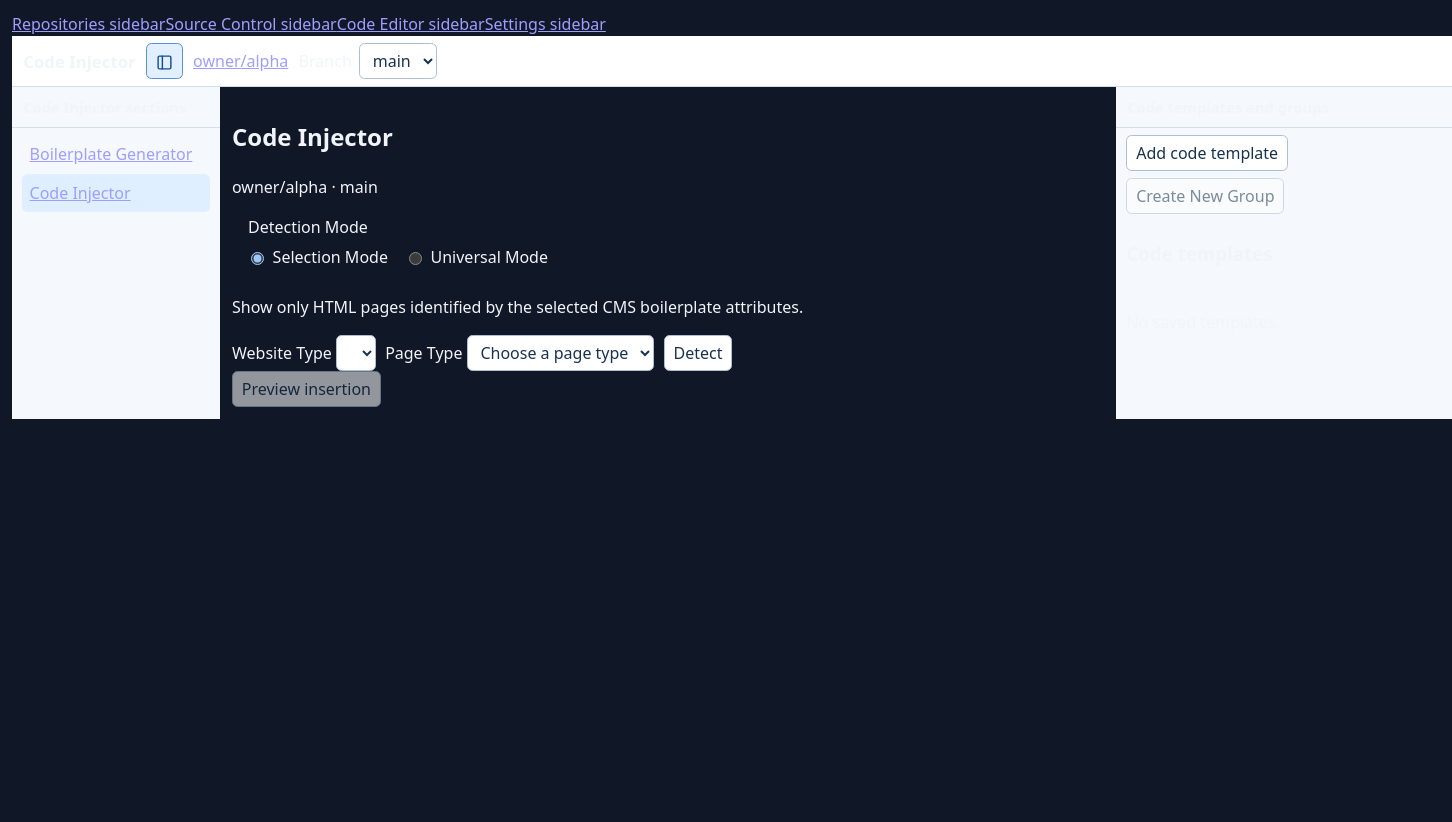
Test: creates reusable named templates and groups in the catalog without editing source
The width and height of the screenshot is (1452, 822).
Click the button "Add code template": (1207, 153) [1126,135,1288,171]
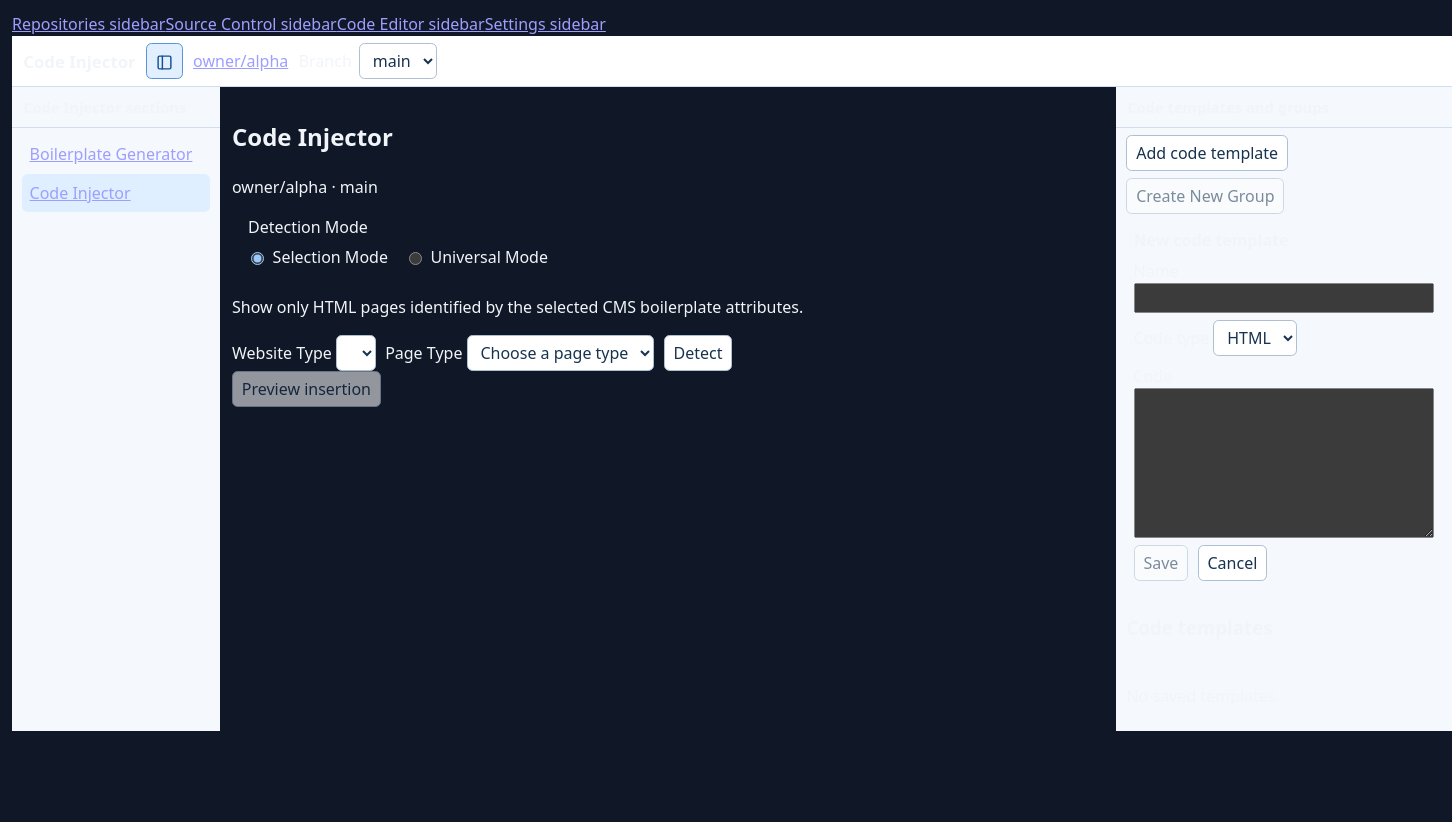
In the field labelled "Name": (1284, 298) [1134,283,1434,313], type "Site title"
In the text box labelled "Code": (1284, 463) [1134,388,1434,538], type "<title>Example</title>"
Click the button "Save": (1161, 563) [1134,545,1188,581]
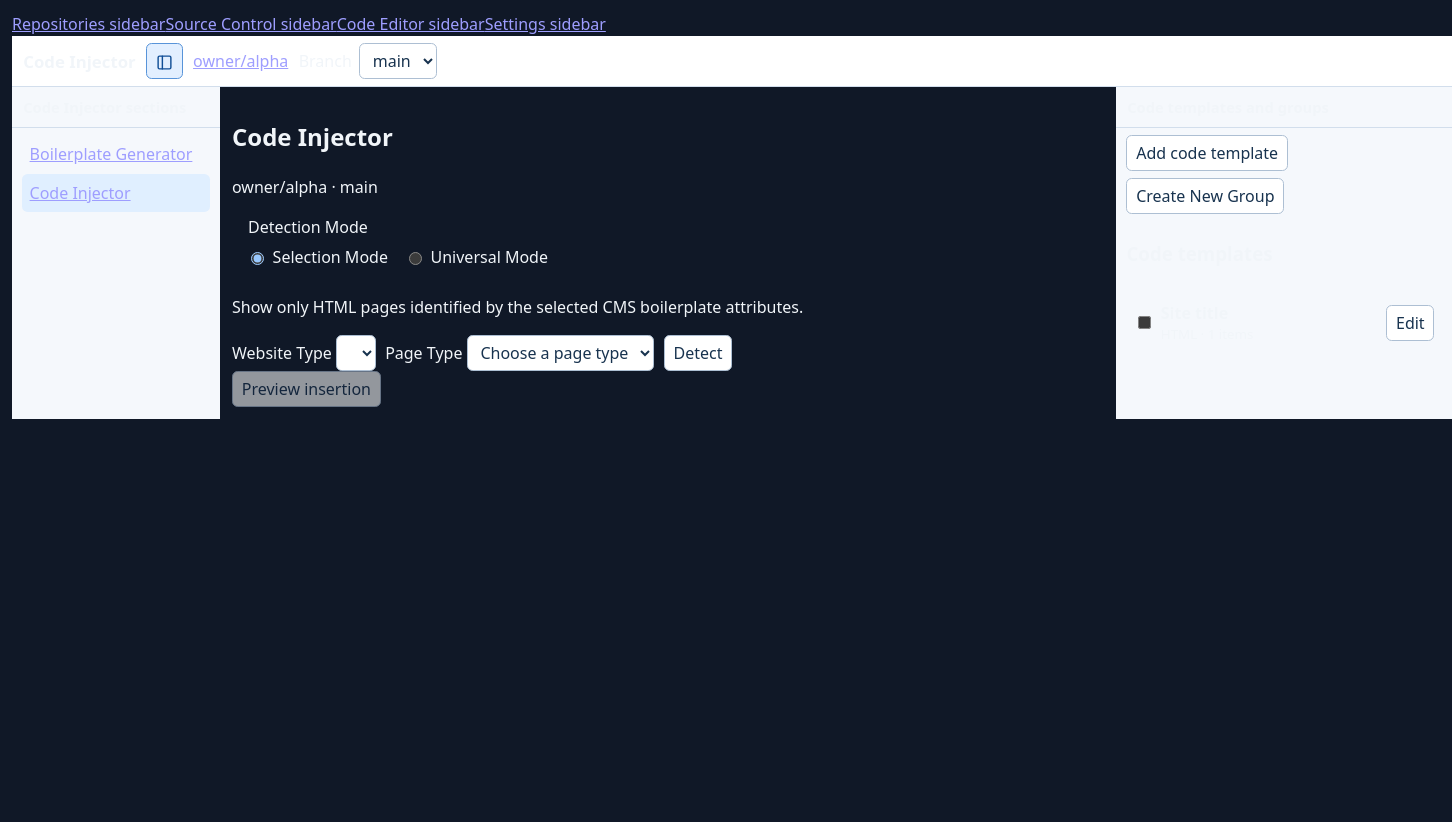
Click the checkbox named "Select template Site title": (1144, 323) [1138,316,1151,329]
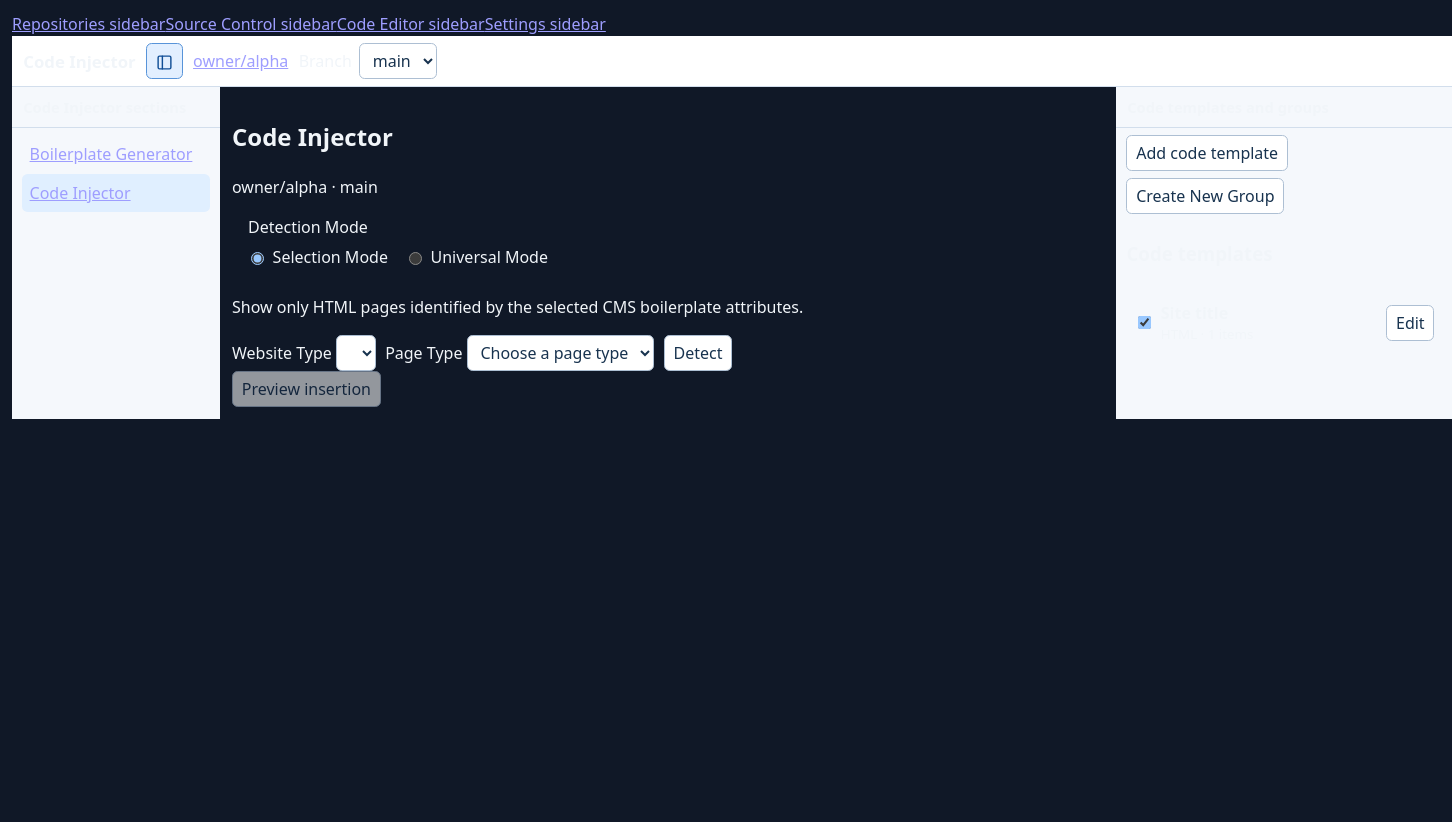
Click the button "Create New Group": (1205, 196) [1126,178,1284,214]
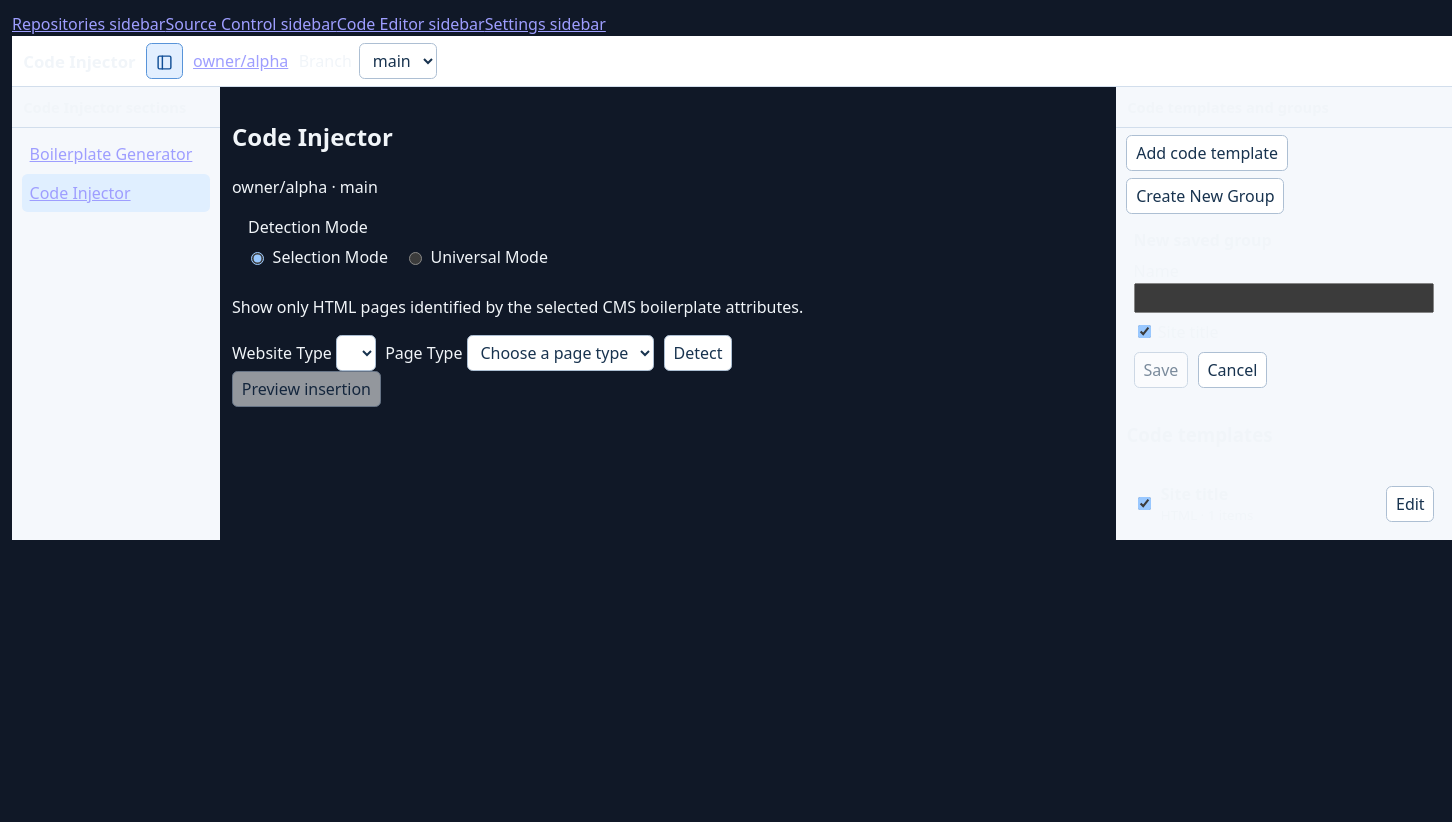
In the field labelled "Name": (1284, 298) [1134,283,1434,313], type "Metadata"
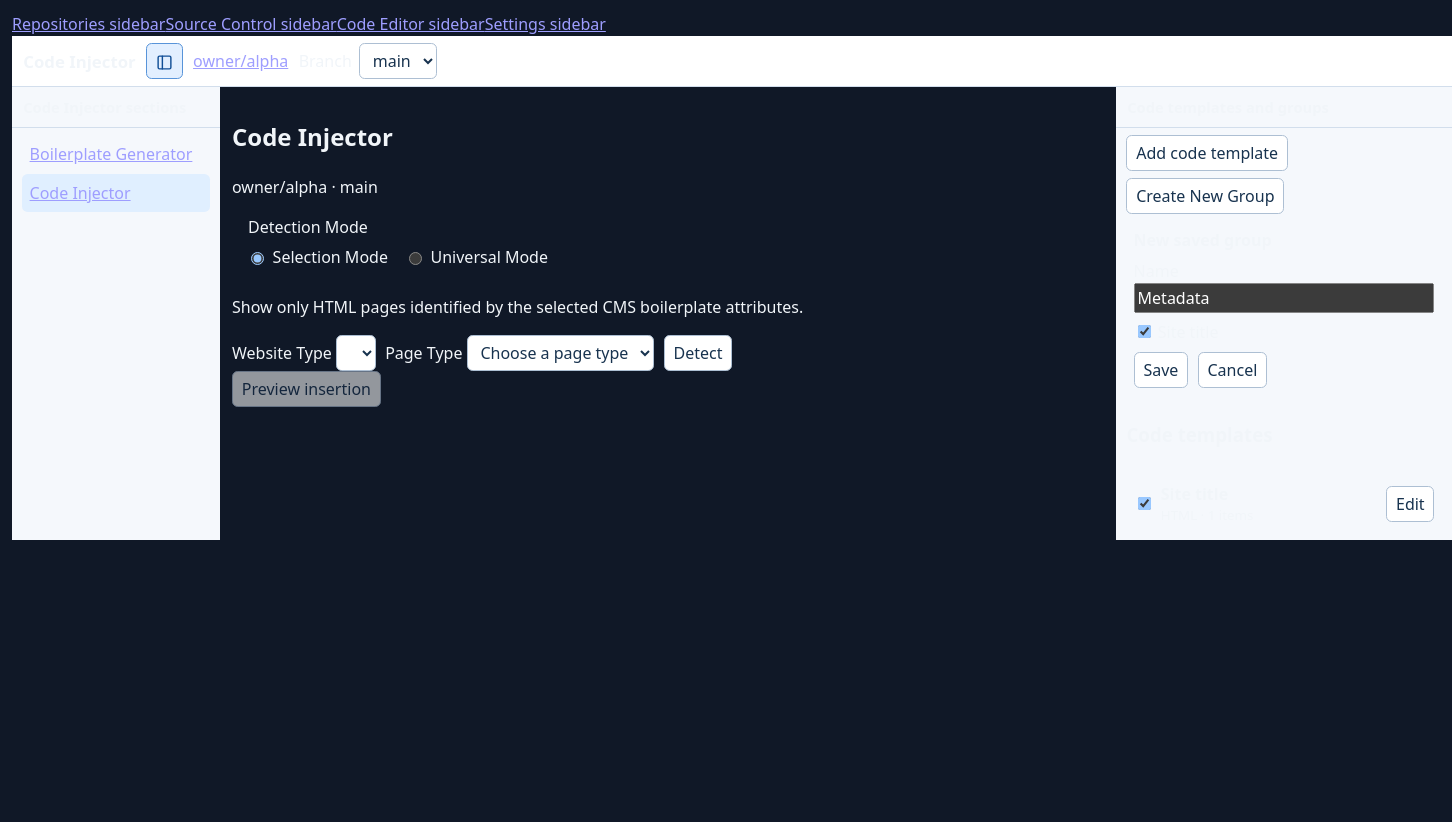
Click the button "Save": (1161, 370) [1134,352,1188,388]
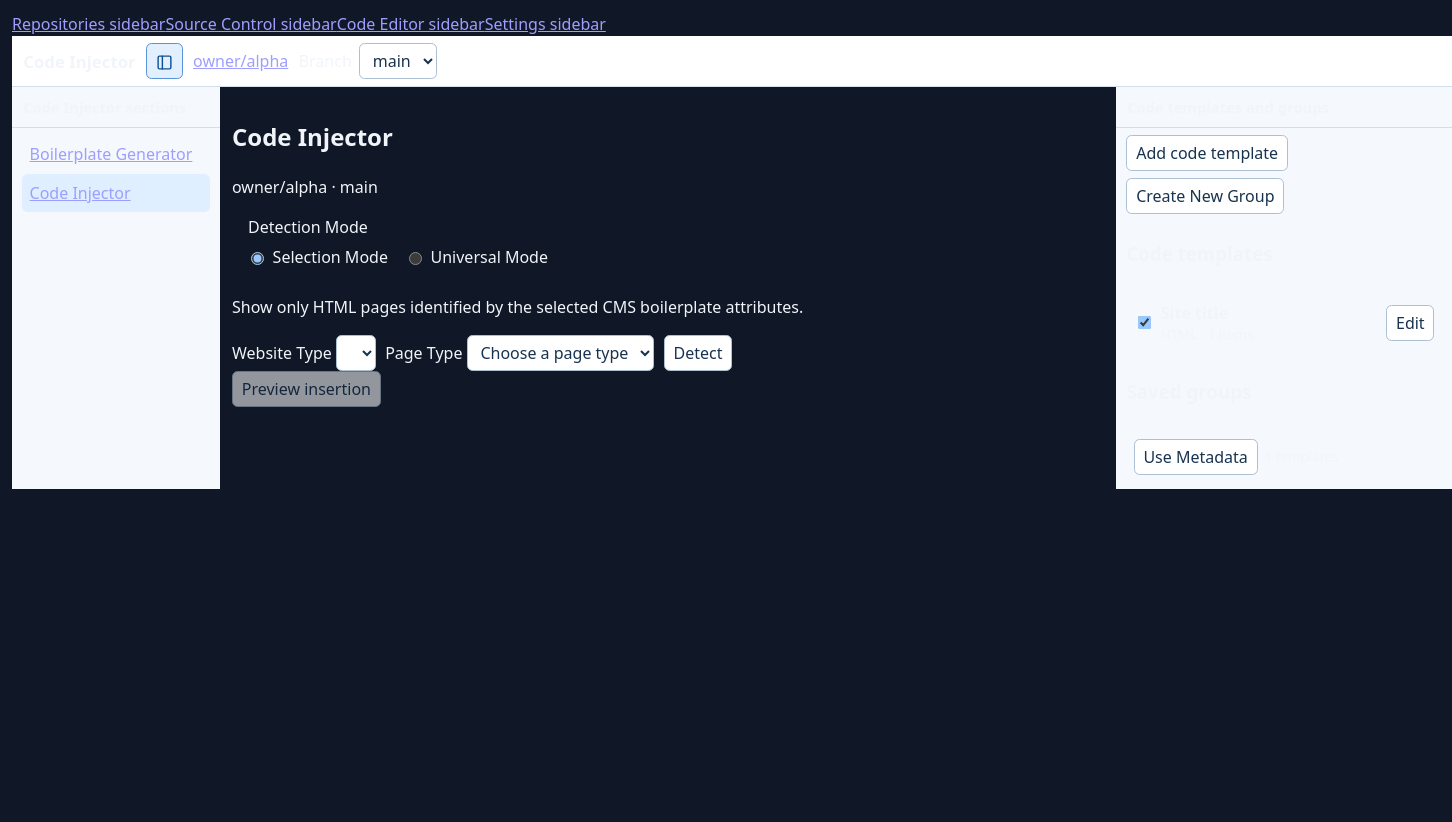
Expected: the button "Use Metadata" is shown, [1134,439,1258,475]
